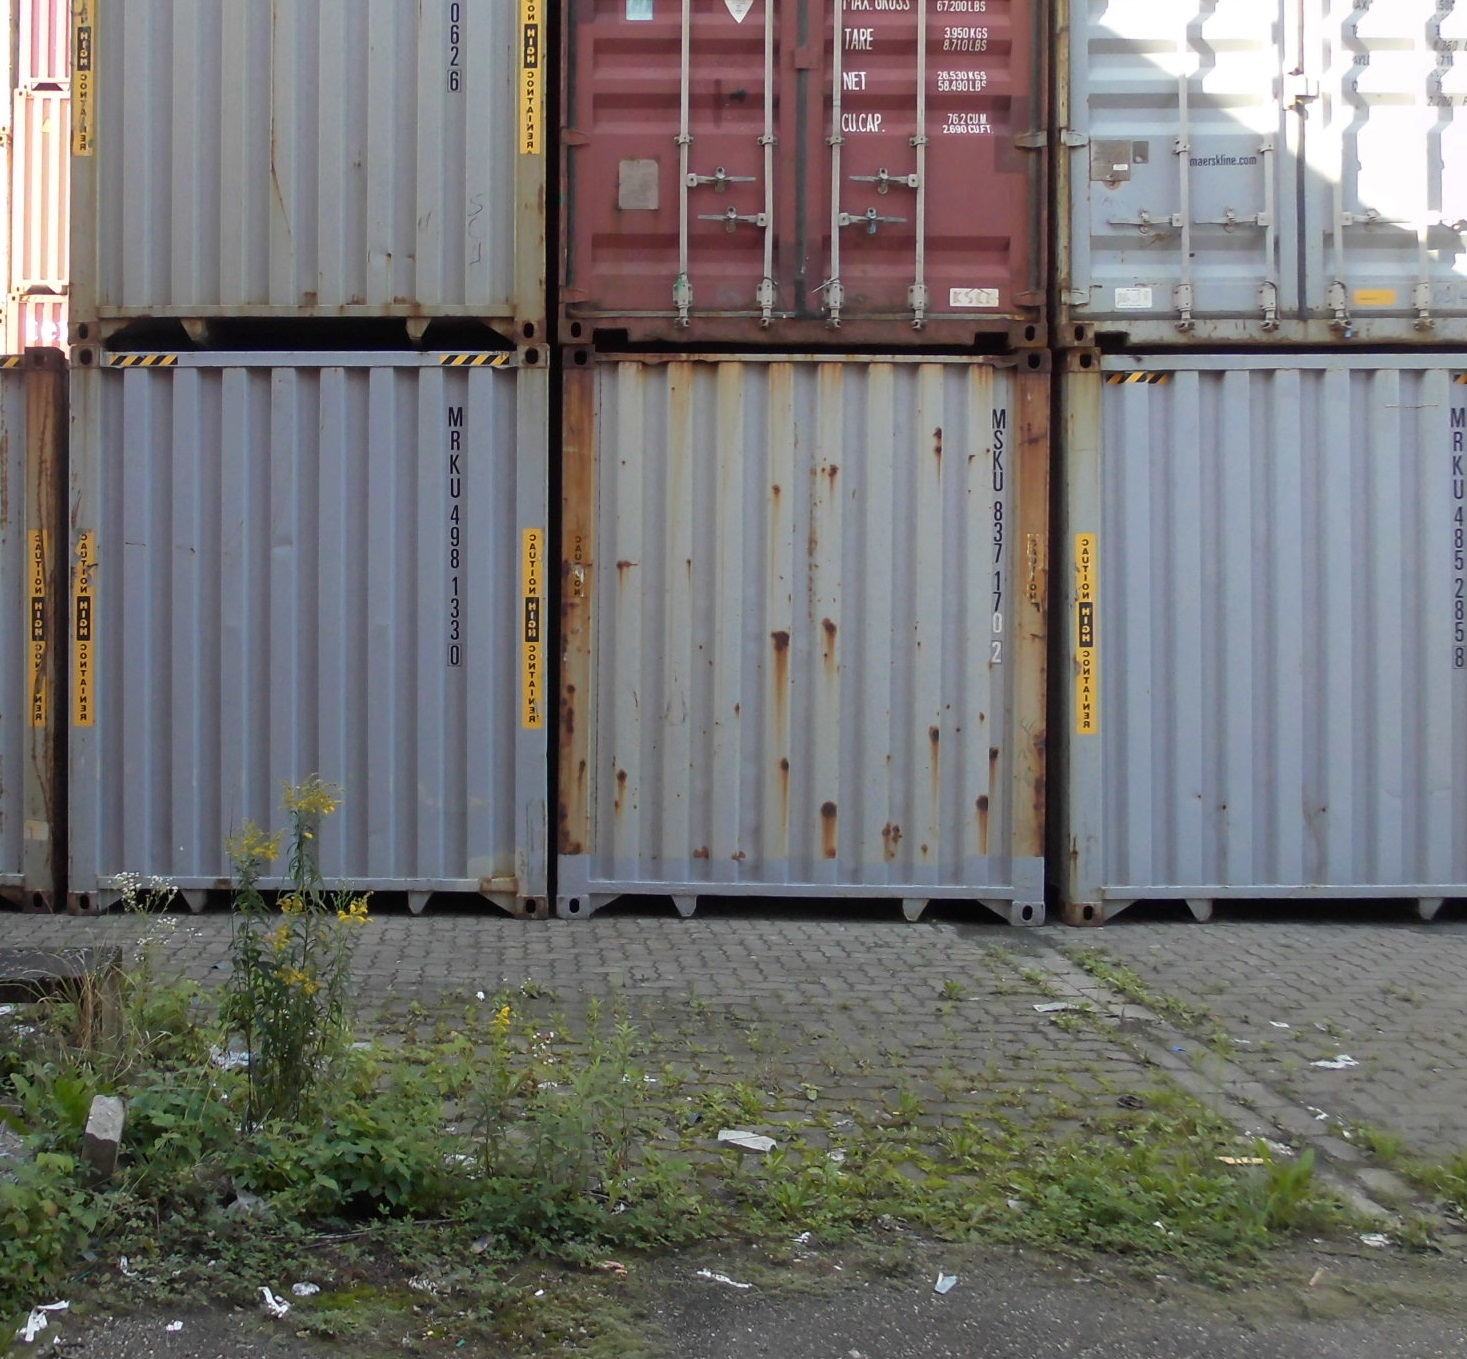container_door: (567, 1, 1056, 341), (1061, 1, 1464, 352)
container_no_door: (565, 349, 1047, 915), (73, 343, 546, 917), (1067, 354, 1467, 924), (65, 1, 549, 341)
